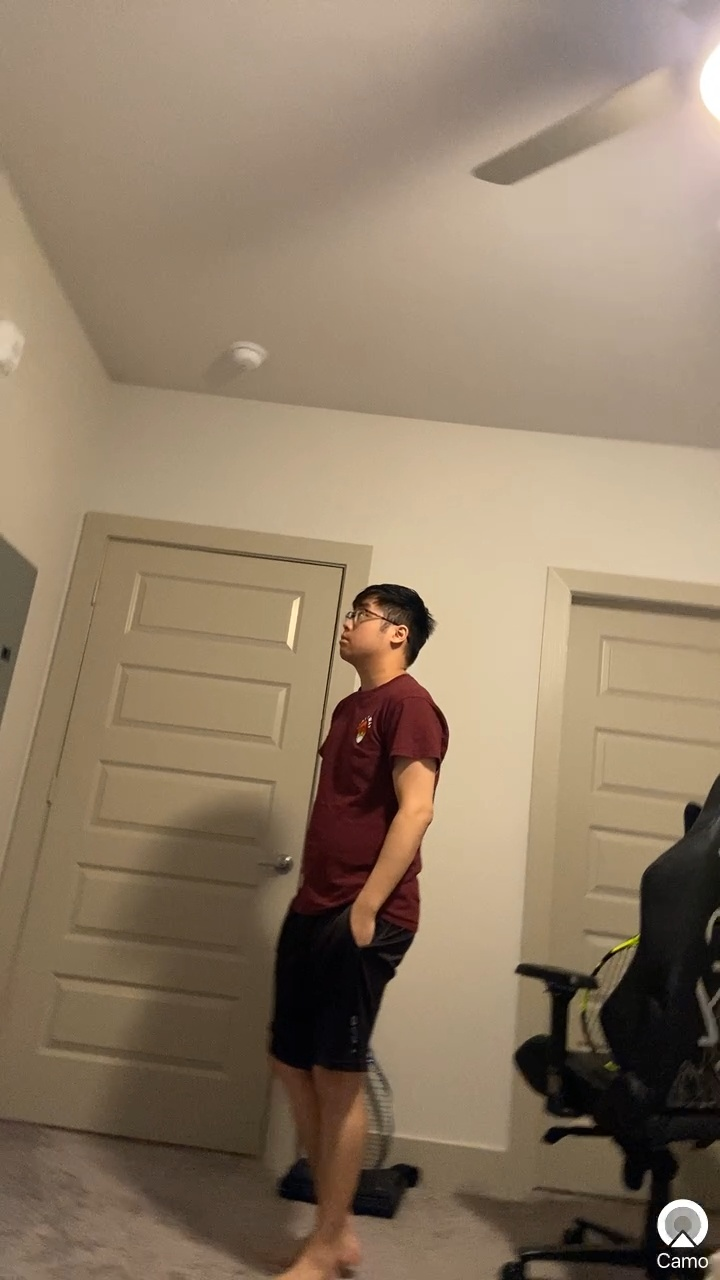Person: (258, 578, 463, 1280)
